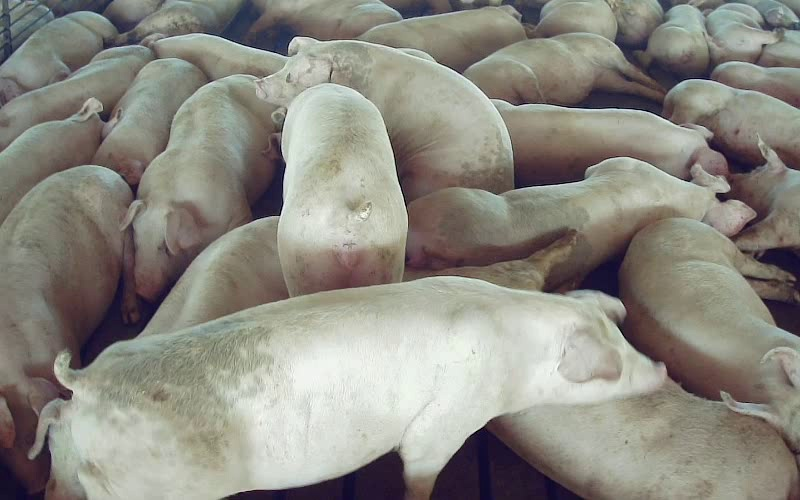pig: (54, 277, 665, 497), (406, 157, 755, 289), (0, 166, 139, 492), (619, 218, 799, 464), (257, 37, 513, 201), (487, 380, 799, 499), (277, 83, 407, 296), (493, 100, 728, 186), (139, 217, 288, 335), (0, 45, 153, 150), (0, 98, 119, 224), (92, 58, 207, 186), (464, 32, 664, 105), (663, 79, 799, 169), (357, 5, 526, 72), (0, 11, 117, 106), (152, 33, 286, 80), (638, 4, 709, 77), (706, 3, 777, 65), (710, 61, 799, 107), (535, 0, 617, 40)
